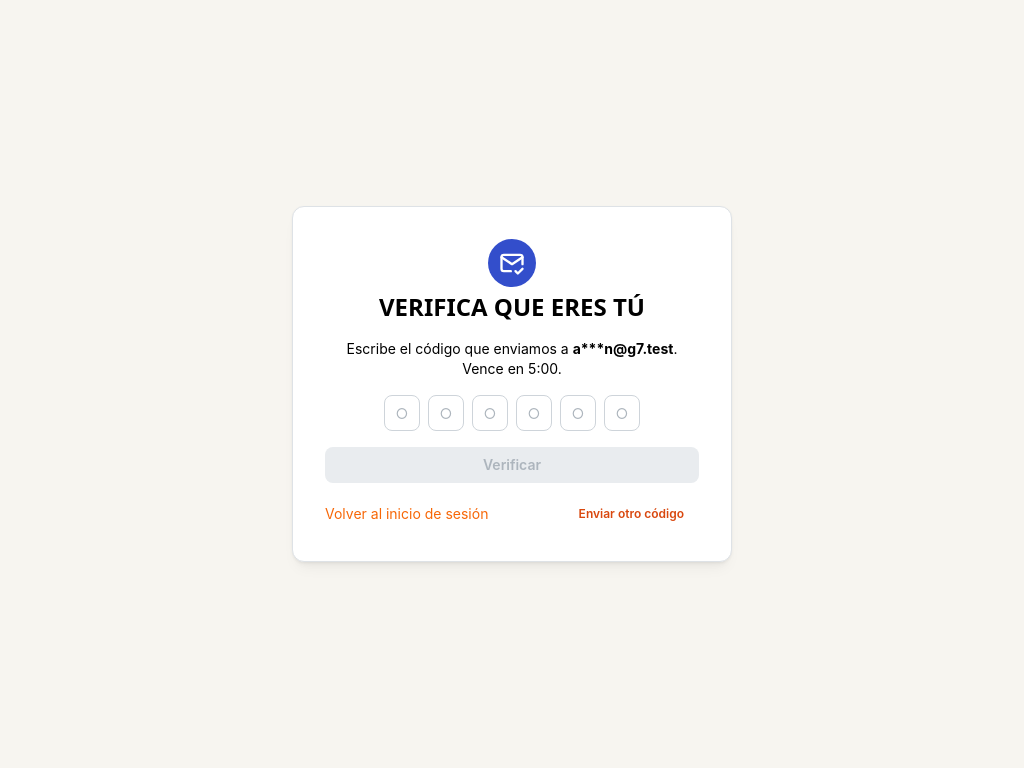
Test: FRONT-04 desafío OTP › pide el código al abrir, verifica al completar 6 dígitos y abre la sesión del admin
expect the text "a***n@g7.test" is shown: met, box [573,340,674,357]
Click the field named "Dígito 1 de 6" at (402, 413), box [384,395,420,431]
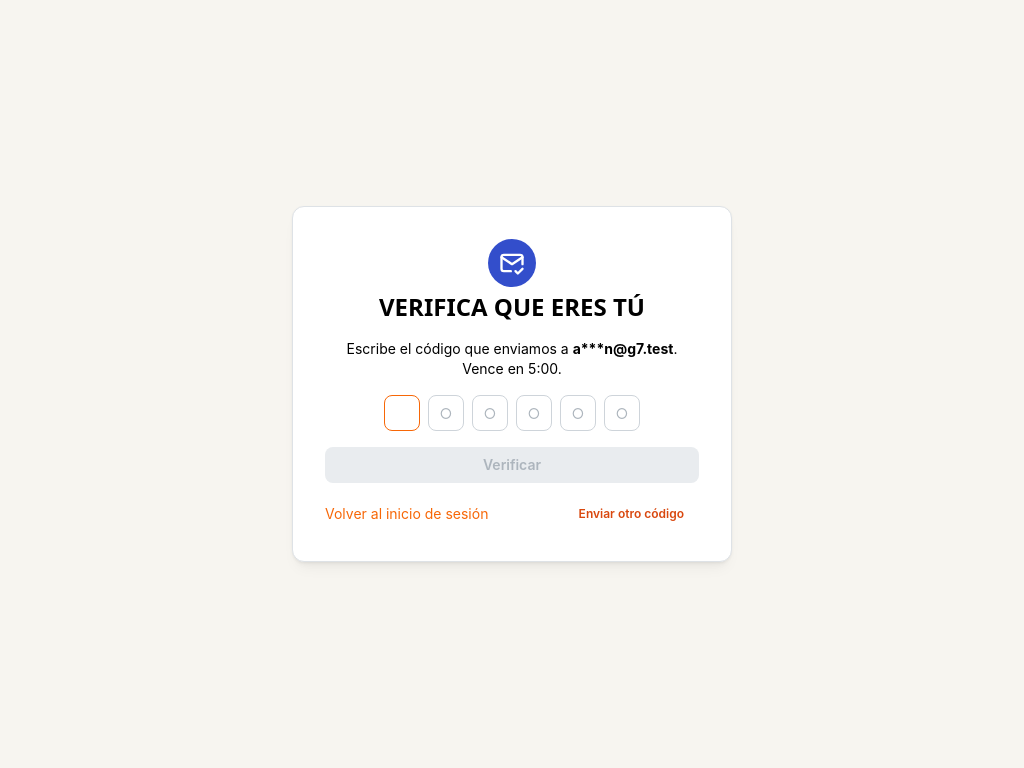
Type keys "482913"
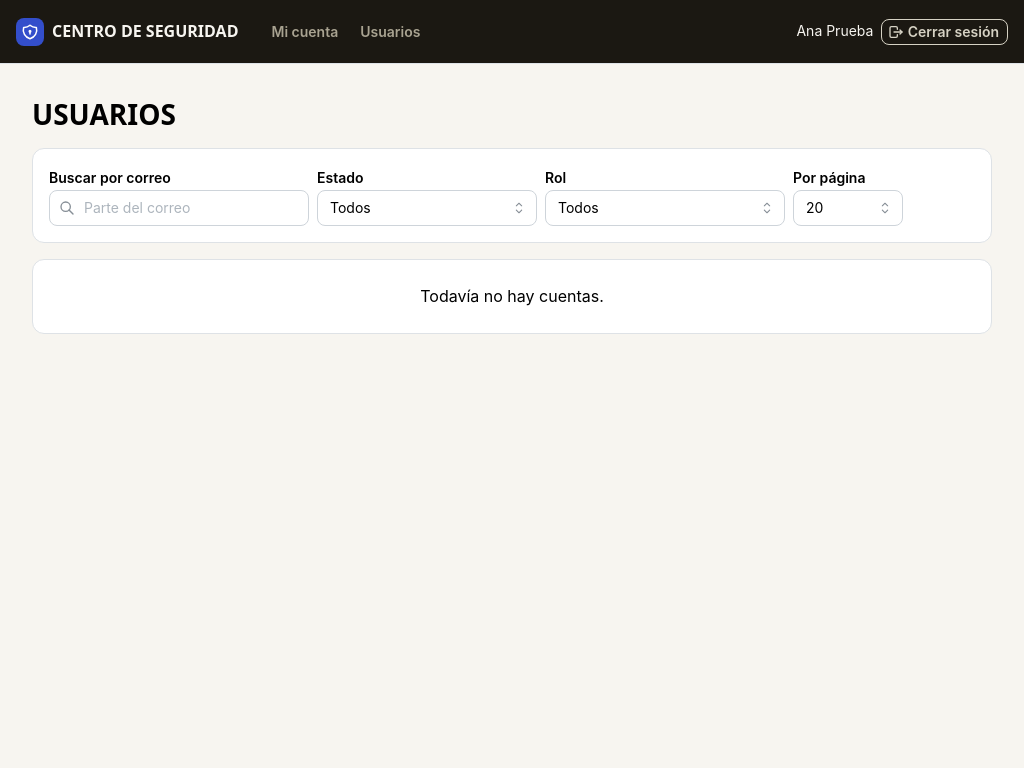
expect the heading "Usuarios" is shown: met, box [32,95,176,133]
